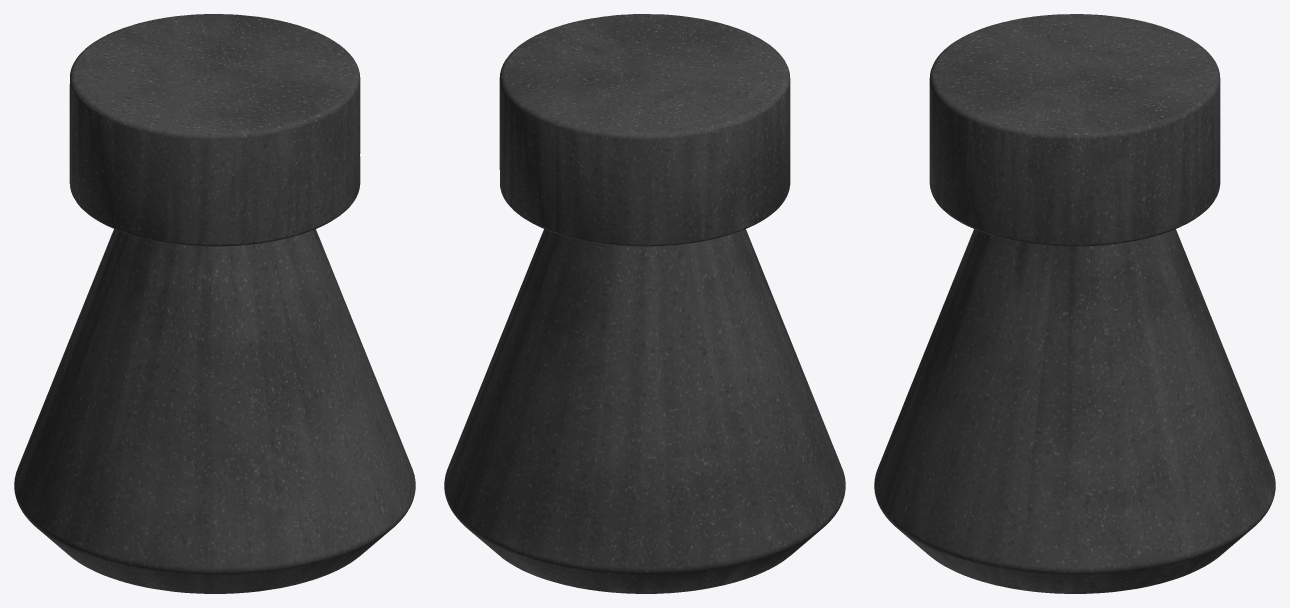
File: rook-black.glb
3 renders of one model, left to right at view 1: azimuth 30°, elevation 25°; view 2: azimuth 150°, elevation 25°; view 3: azimuth 270°, elevation 25°, orthographic.
Parts seen in each view (by area): view 1: 03_vez_cerna; view 2: 03_vez_cerna; view 3: 03_vez_cerna.
Boxes of the visible parts, left/top/right/bottom form: 03_vez_cerna: left=14, top=14, right=415, bottom=593; 03_vez_cerna: left=444, top=14, right=845, bottom=593; 03_vez_cerna: left=874, top=14, right=1275, bottom=593.
Bounding box in the file's own units: 0.7959 × 0.99 × 0.796.
1 material, 1 textured.
